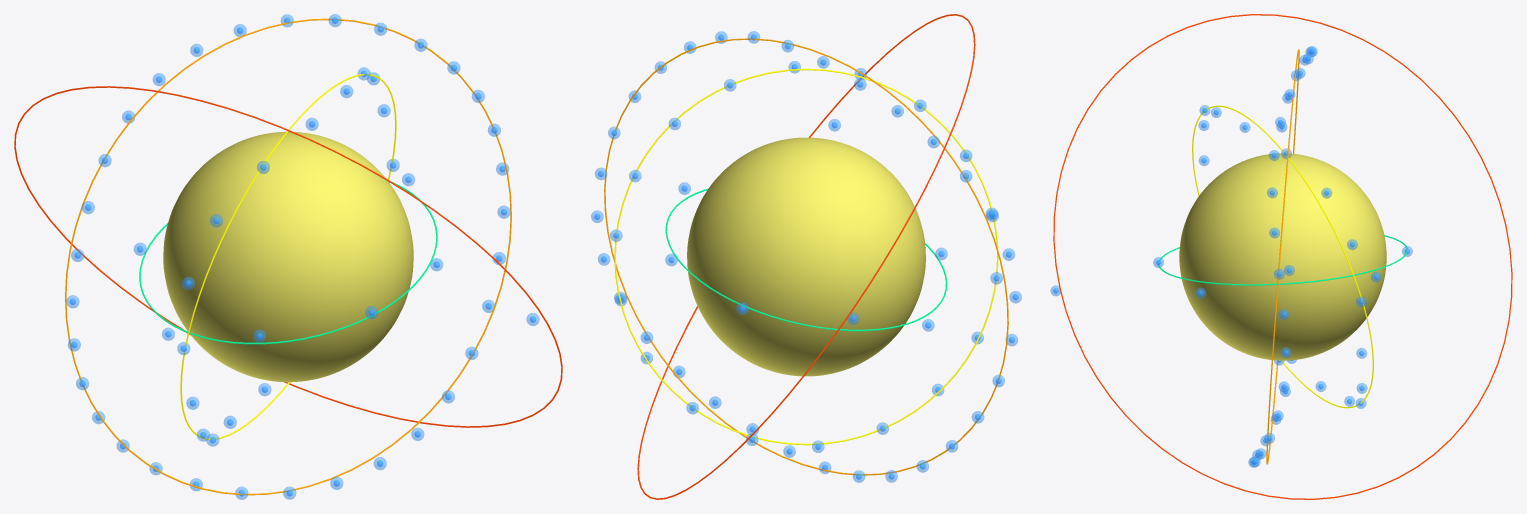
3 renders of one model, left to right at view 1: azimuth 30°, elevation 25°; view 2: azimuth 150°, elevation 25°; view 3: azimuth 270°, elevation 25°, orthographic. The views are drawn at different scales.
Parts seen in each view (by area): view 1: Pm, object 61, object 126, object 24, object 7; view 2: Pm, object 61, object 24, object 126, object 7; view 3: Pm, object 126, object 61, object 24, object 7.
Boxes of the visible parts, <box> form: Pm: <box>163,131,413,382</box>; object 61: <box>65,18,511,495</box>; object 126: <box>14,86,562,427</box>; object 24: <box>180,74,396,439</box>; object 7: <box>139,182,437,344</box>; Pm: <box>687,137,925,376</box>; object 61: <box>604,38,1008,475</box>; object 24: <box>614,68,998,445</box>; object 126: <box>637,14,975,499</box>; object 7: <box>665,188,947,331</box>; Pm: <box>1179,153,1386,360</box>; object 126: <box>1053,14,1512,499</box>; object 61: <box>1266,49,1299,464</box>; object 24: <box>1192,105,1373,408</box>; object 7: <box>1158,235,1407,285</box>.
Size of the model in its own units: 6.17 by 6.14 by 6.68.
